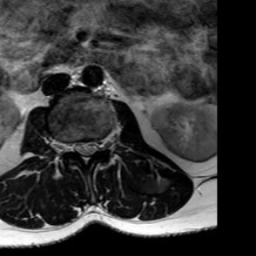CCS_normal: (82, 130, 90, 171)
LFS_normal: (99, 124, 108, 160)
LLS_normal: (90, 129, 99, 161)
RFS_normal: (62, 127, 72, 159)
RLS_normal: (72, 129, 82, 161)
